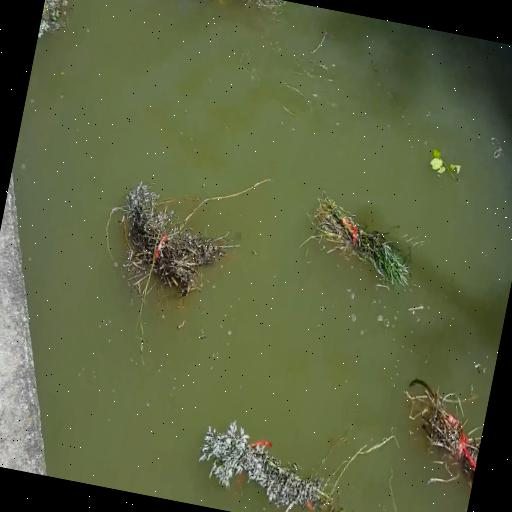twig: (102, 174, 240, 328), (190, 412, 356, 512), (300, 188, 434, 288), (396, 375, 490, 489), (416, 141, 470, 199), (36, 0, 80, 50), (184, 0, 291, 19)
